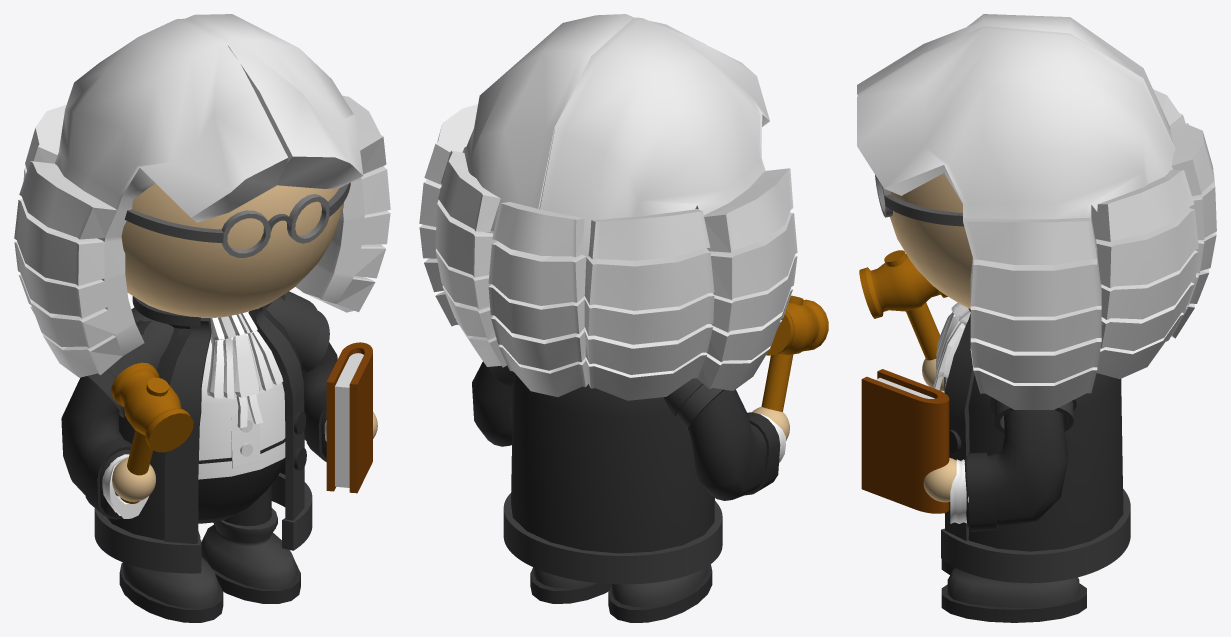
The model's file is juez.glb.
The picture shows the model from 3 angles, left to right: view 1: azimuth 30°, elevation 25°; view 2: azimuth 150°, elevation 25°; view 3: azimuth 270°, elevation 25°; orthographic projection.
Parts seen in each view (by area): view 1: Box012, Box017, Sphere25, Box019, Cylinder093, Tube044, Cylinder090, Box004, Cylinder81, Tube043, Cylinder142, Box020 (+22 smaller); view 2: Box012, Cylinder125, Box013, Box017, Box016, Box015, Tube044, Cylinder81, Cylinder129, Cylinder142, Cylinder83, Cylinder087 (+6 smaller); view 3: Box017, Box015, Cylinder125, Tube043, Cylinder129, Tube044, Sphere25, Box016, Box012, Cylinder090, Cylinder142, Box020 (+9 smaller).
Boxes of the visible parts, x1,y1,x2,y2 form: Box012: (14, 18, 288, 377); Box017: (185, 14, 390, 312); Sphere25: (121, 183, 343, 317); Box019: (164, 318, 211, 544); Cylinder093: (198, 311, 285, 479); Tube044: (94, 473, 312, 573); Cylinder090: (201, 508, 296, 588); Box004: (207, 312, 283, 398); Cylinder81: (61, 320, 151, 517); Tube043: (326, 342, 372, 493); Cylinder142: (111, 362, 193, 452); Box020: (248, 307, 304, 520); Box012: (539, 17, 797, 390); Cylinder125: (511, 373, 714, 553); Box013: (584, 209, 714, 400); Box017: (419, 14, 660, 326); Box016: (488, 202, 588, 397); Box015: (435, 150, 506, 367); Tube044: (503, 493, 722, 584); Cylinder81: (688, 389, 766, 500); Cylinder129: (472, 361, 512, 446); Cylinder142: (766, 299, 828, 355); Cylinder83: (611, 566, 707, 607); Cylinder087: (608, 564, 712, 622); Box017: (857, 26, 1175, 409); Box015: (1091, 170, 1198, 379); Cylinder125: (968, 373, 1123, 551); Tube043: (861, 369, 949, 513); Cylinder129: (964, 410, 1068, 528); Tube044: (941, 489, 1130, 583); Sphere25: (890, 173, 972, 308); Box016: (1170, 123, 1216, 338); Box012: (857, 14, 1175, 148); Cylinder090: (947, 568, 1079, 607); Cylinder142: (859, 254, 947, 318); Box020: (944, 308, 974, 540).
Bounding box in the file's own units: 0.9735 × 1.54 × 0.8916.
